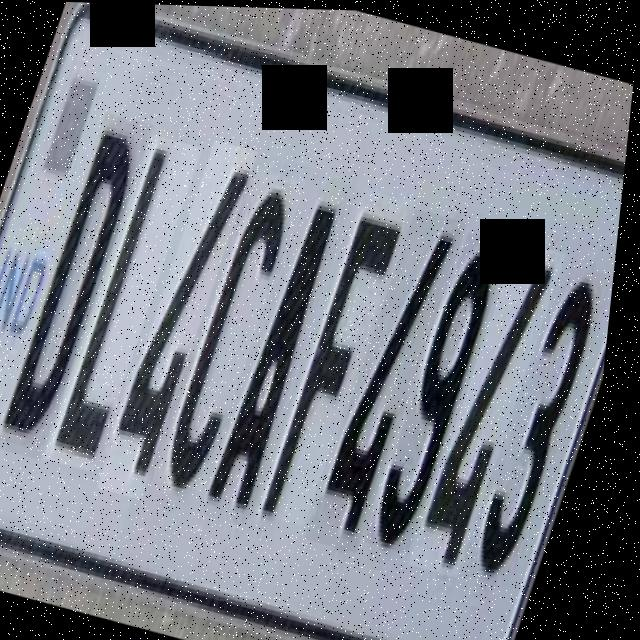3: (474, 259, 618, 586)
4: (106, 137, 262, 501), (313, 204, 473, 553), (420, 236, 573, 576)
9: (374, 228, 517, 553)
A: (210, 170, 364, 525)
C: (162, 164, 310, 492)
D: (1, 109, 156, 461)
F: (264, 185, 418, 526)
L: (51, 132, 206, 473)
